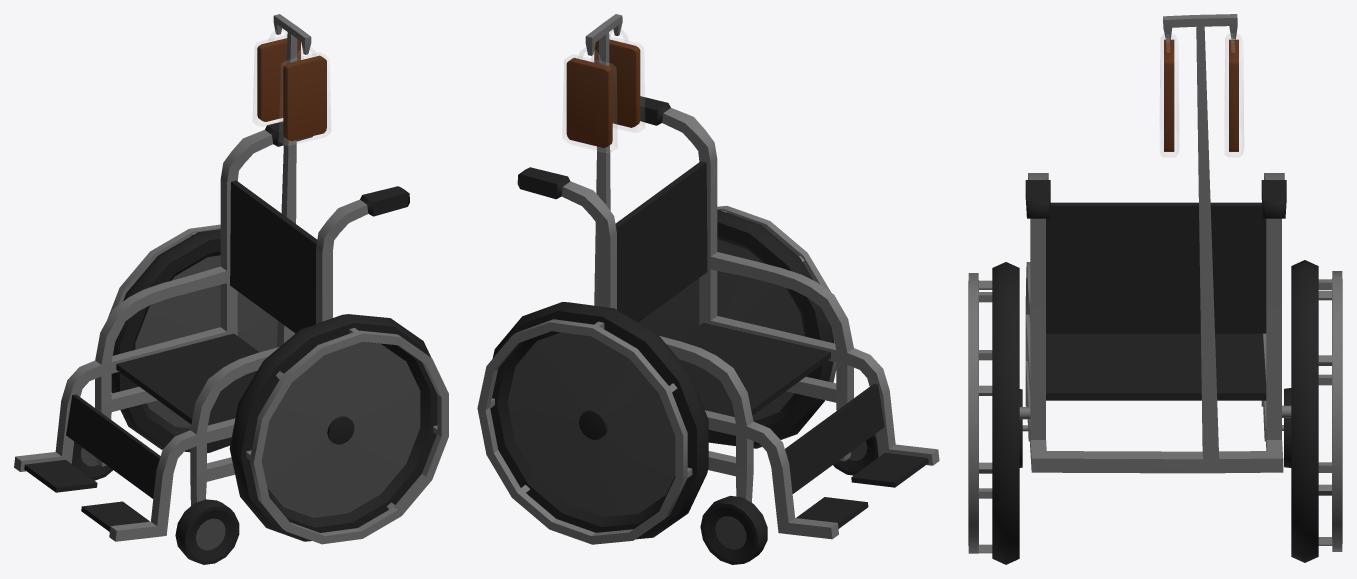
Rendered from Wheelchair2.fbx.
3 views of the same model, side by side, from view 1: azimuth 30°, elevation 25°; view 2: azimuth 150°, elevation 25°; view 3: azimuth 270°, elevation 25° (orthographic). The views are drawn at different scales.
Visible parts, largest first — view 1: Chair1, BigWheelL, BigWheelR, Blood1, SmallWheelL, Blood2, Bloodbag1, SmallWheelR, Bloodbag2; view 2: Chair1, BigWheelR, BigWheelL, Blood2, SmallWheelR, Blood1, Bloodbag2, SmallWheelL, Bloodbag1; view 3: Chair1, BigWheelR, BigWheelL, Blood1, Bloodbag1, Bloodbag2, Blood2, SmallWheelR.
Part boxes in pixels (box(x1,y1,x2,y2)): Chair1: box(14, 14, 409, 541); BigWheelL: box(229, 314, 448, 544); BigWheelR: box(107, 224, 277, 452); Blood1: box(283, 55, 326, 141); SmallWheelL: box(175, 499, 239, 564); Blood2: box(257, 38, 300, 121); Bloodbag1: box(279, 47, 330, 145); SmallWheelR: box(71, 441, 112, 480); Bloodbag2: box(253, 29, 303, 126); Chair1: box(517, 14, 939, 539); BigWheelR: box(477, 302, 708, 544); BigWheelL: box(639, 206, 836, 448); Blood2: box(566, 57, 612, 147); SmallWheelR: box(700, 495, 767, 564); Blood1: box(594, 39, 640, 127); Bloodbag2: box(563, 48, 617, 152); SmallWheelL: box(833, 433, 878, 475); Bloodbag1: box(591, 29, 644, 132); Chair1: box(1019, 14, 1291, 473); BigWheelR: box(1291, 260, 1342, 562); BigWheelL: box(968, 262, 1019, 564); Blood1: box(1164, 39, 1174, 151); Bloodbag1: box(1160, 34, 1178, 156); Bloodbag2: box(1224, 34, 1243, 156); Blood2: box(1229, 39, 1238, 151); SmallWheelR: box(1284, 388, 1291, 467).
Size of the model in its own units: 5.18 by 6.96 by 4.25.
